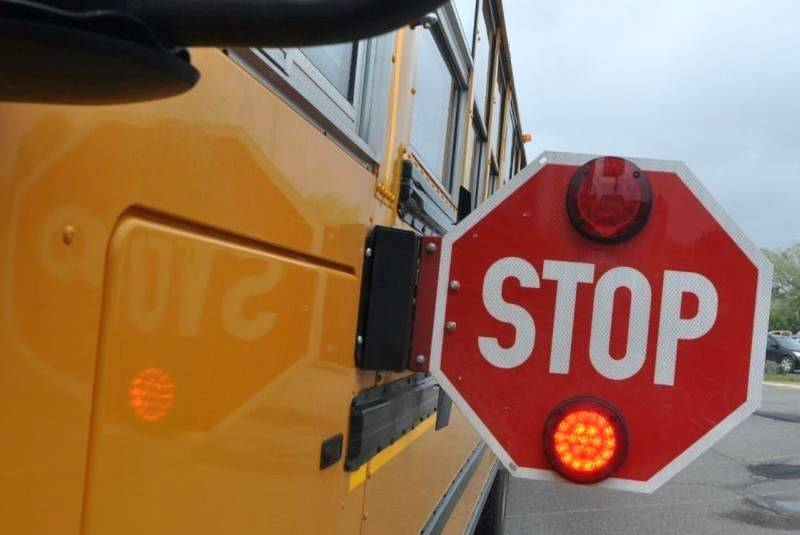stopsign: (431, 152, 773, 494)
